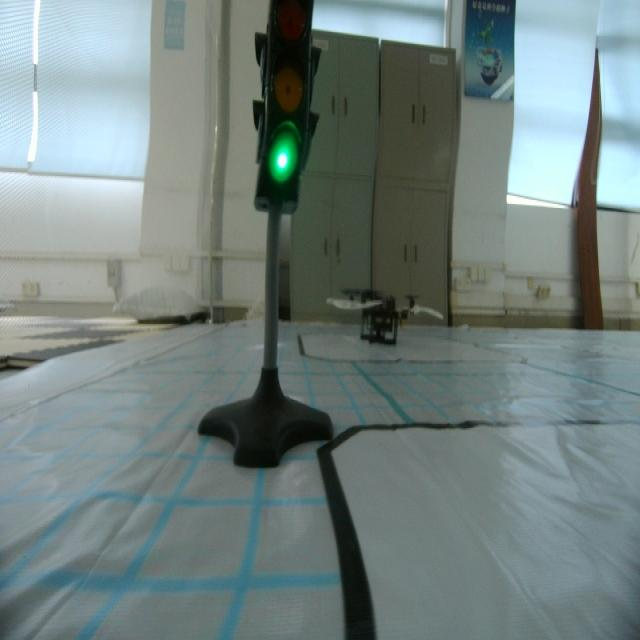green: (254, 3, 314, 212)
